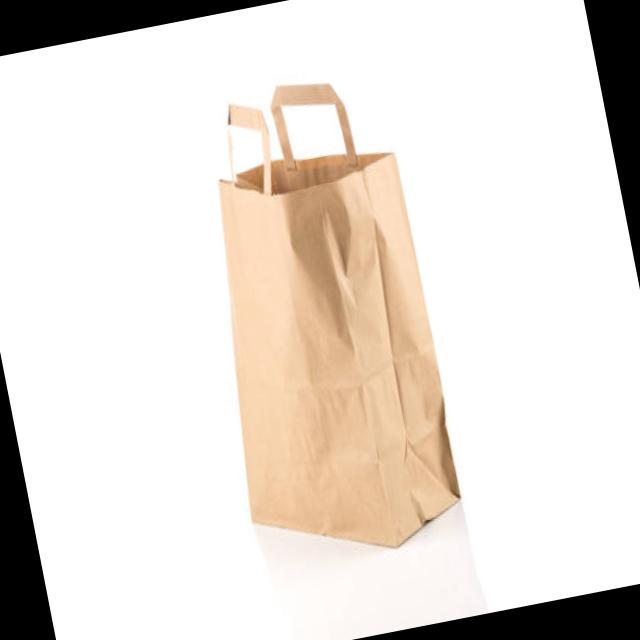electronic: (170, 64, 471, 574)
